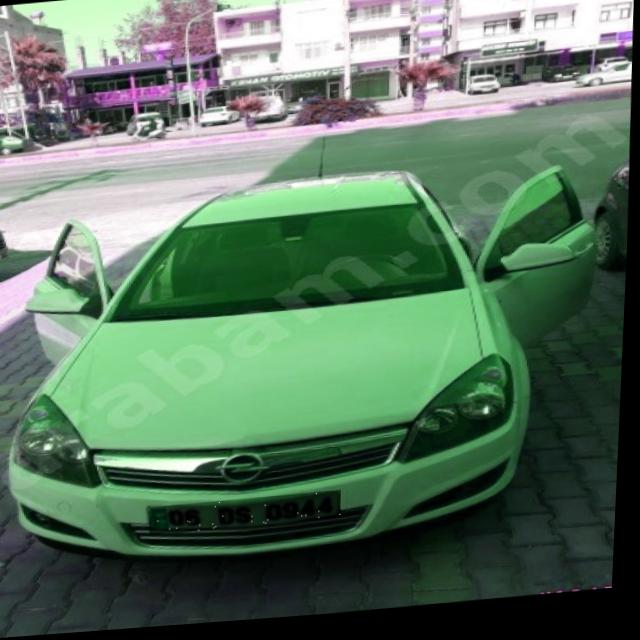license_plate: (153, 495, 345, 537)
